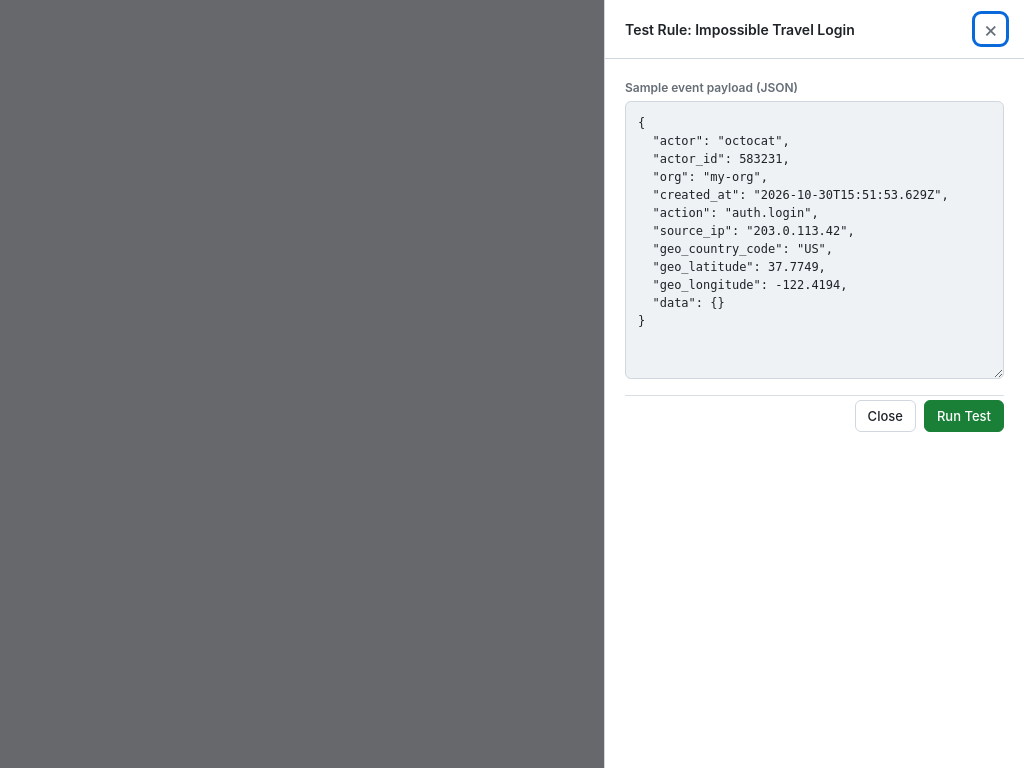
Test case: TestRuleModal › shows no-match result after test fails to match
Click the button "Run Test".
click(964, 416)  # box [924,400,1004,432]
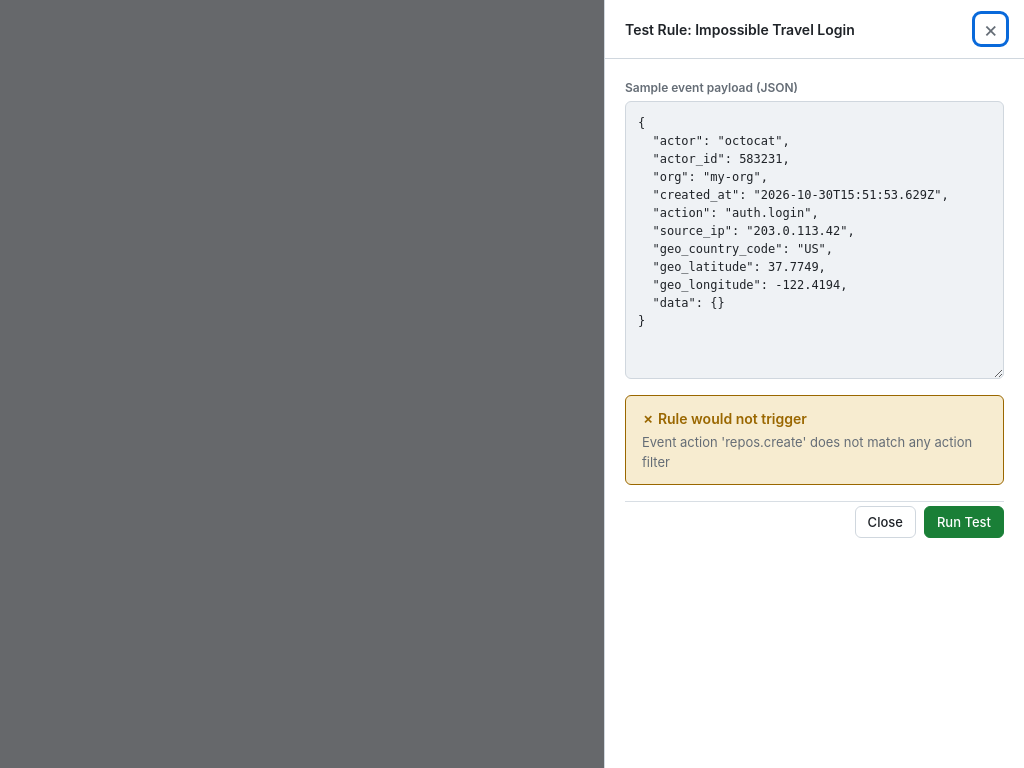
Result: the text "✗ Rule would not trigger" is shown at [642,410,807,427]
